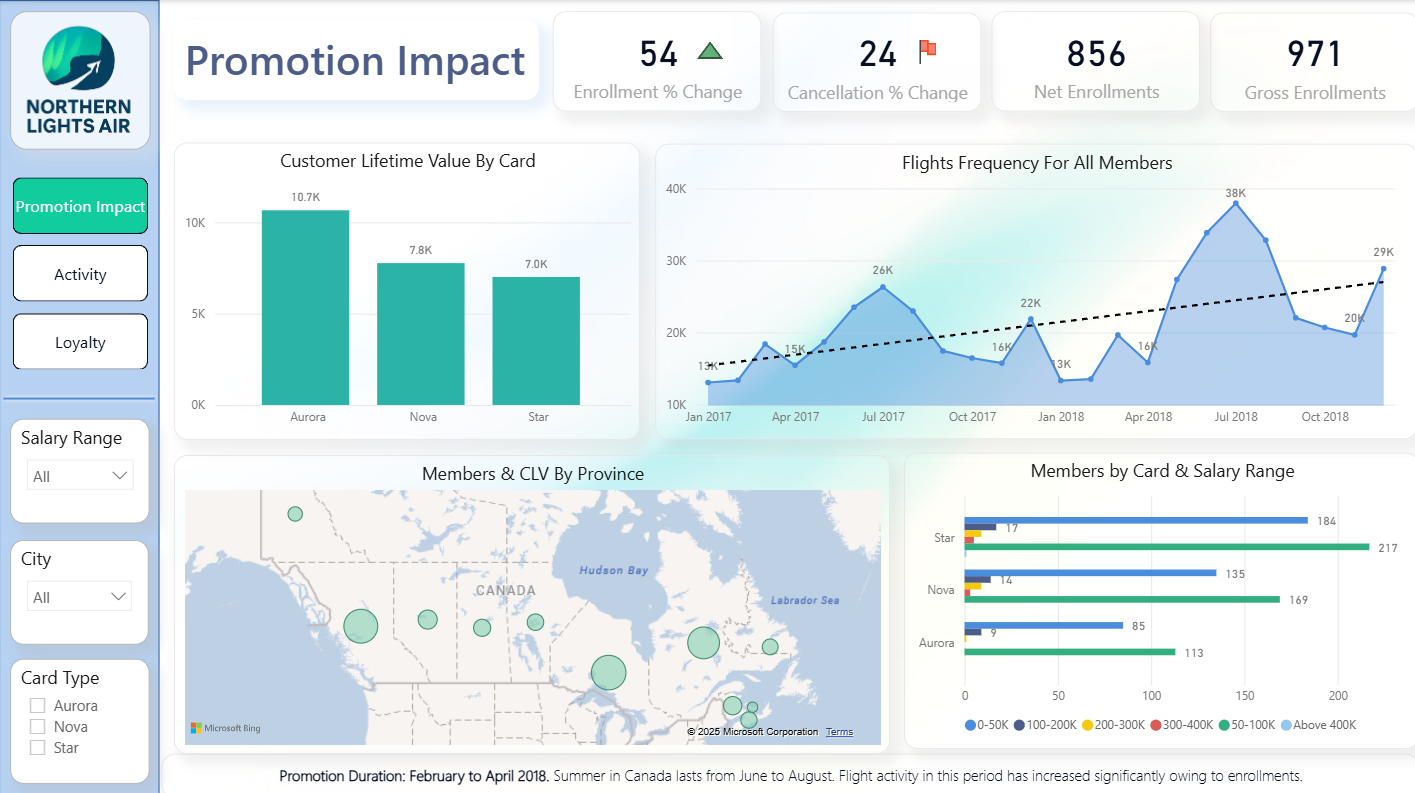

The dashboard page shown, as its layout file describes it:
{"tool":"powerbi","page":{"name":"Promotion Impact","canvas":[1280,720],"ordinal":0},"visuals":[{"type":"image","box":[145.5,1.2,1134.8,719],"z":0},{"type":"textbox","box":[146,679.6,1134,40.3],"z":1000},{"type":"tableEx","fields":{"Values":["Customer Loyalty History.Enrollment % Change"]},"box":[545.4,2.8,129.4,62.6],"z":2000},{"type":"tableEx","fields":{"Values":["Customer Loyalty History.Cancellation % Change"]},"box":[815.6,5.9,120.5,61.7],"z":3000},{"type":"card","fields":{"Values":["Customer Loyalty History.Enrollment % Change"]},"box":[498.9,9.8,188.3,90.5],"z":4000},{"type":"card","fields":{"Values":["Customer Loyalty History.Cancellation % Change"]},"box":[697.2,11,188.3,89.3],"z":5000},{"type":"card","fields":{"Values":["Customer Loyalty History.Gross Enrollments"]},"box":[1092,11,188.3,89.3],"z":6000},{"type":"card","fields":{"Values":["Customer Loyalty History.Net Enrollments"]},"box":[895.1,9.8,188.3,90.5],"z":7000},{"type":"clusteredBarChart","title":"Members by Card & Salary Range","fields":{"Y":["CountNonNull(Customer Loyalty History.Loyalty Number)"],"Category":["Customer Loyalty History.Loyalty Card"],"Series":["Customer Loyalty History.Salary Range"]},"box":[815.6,407.8,464.4,266.8],"z":8000},{"type":"map","title":"Members & CLV By Province","fields":{"Category":["Customer Loyalty History.Province","Customer Loyalty History.City"],"Size":["CountNonNull(Customer Loyalty History.Loyalty Number)"]},"box":[157.3,410.3,645.7,269.3],"z":9000},{"type":"lineChart","title":"Flights Frequency For All Members","fields":{"Y":["Sum(Customer Flight Activity.Total Flights)"],"Category":["Calendar.Start of Month.Variation.Date Hierarchy.Year","Calendar.Start of Month.Variation.Date Hierarchy.Month","Calendar.Start of Month.Variation.Date Hierarchy.Day"]},"box":[591.9,129.8,687.2,266.6],"z":10000},{"type":"shape","box":[0,0,144.8,719.5],"z":11000},{"type":"slicer","title":"City","fields":{"Values":["Customer Loyalty History.City"]},"box":[9.8,486.7,124.7,94.2],"z":12000},{"type":"slicer","title":"Card Type","fields":{"Values":["Customer Loyalty History.Loyalty Card"]},"box":[9.8,594.3,126,112.5],"z":13000},{"type":"shape","box":[0,347.3,144.3,24.5],"z":14000},{"type":"image","box":[9.8,9.8,126.5,125.1],"z":15000},{"type":"textbox","box":[157.7,18.3,328.9,72.1],"z":16000},{"type":"FlowVisual_C29F1DCC_81F5_4973_94AD_0517D44CC06A","box":[173,500,150,220],"z":17000},{"type":"clusteredColumnChart","title":"Customer Lifetime Value By Card","fields":{"Category":["Customer Loyalty History.Loyalty Card"],"Y":["Avg(Customer Loyalty History.CLV)"]},"box":[157.3,128.4,420.4,268.1],"z":18000},{"type":"pageNavigator","box":[12.2,160.4,122.3,173.6],"z":19000},{"type":"slicer","title":"Salary Range","fields":{"Values":["Calendar.Date.Variation.Date Hierarchy.Year"]},"box":[9.8,377.9,126,94.2],"z":20000}]}

Visuals, with their boxes on the page's 1280x720 design canvas (x1, y1, x2, y2). These are canvas units, not pixel positions in the 1415x793 screenshot, which may show the page scaled, cropped or inside an application window:
image: bbox=[146, 1, 1280, 720]
textbox: bbox=[146, 680, 1280, 720]
tableEx - Customer Loyalty History.Enrollment % Change: bbox=[545, 3, 675, 65]
tableEx - Customer Loyalty History.Cancellation % Change: bbox=[816, 6, 936, 68]
card - Customer Loyalty History.Enrollment % Change: bbox=[499, 10, 687, 100]
card - Customer Loyalty History.Cancellation % Change: bbox=[697, 11, 886, 100]
card - Customer Loyalty History.Gross Enrollments: bbox=[1092, 11, 1280, 100]
card - Customer Loyalty History.Net Enrollments: bbox=[895, 10, 1083, 100]
"Members by Card & Salary Range" clusteredBarChart: bbox=[816, 408, 1280, 675]
"Members & CLV By Province" map: bbox=[157, 410, 803, 680]
"Flights Frequency For All Members" lineChart: bbox=[592, 130, 1279, 396]
shape: bbox=[0, 0, 145, 720]
"City" slicer: bbox=[10, 487, 134, 581]
"Card Type" slicer: bbox=[10, 594, 136, 707]
shape: bbox=[0, 347, 144, 372]
image: bbox=[10, 10, 136, 135]
textbox: bbox=[158, 18, 487, 90]
FlowVisual_C29F1DCC_81F5_4973_94AD_0517D44CC06A: bbox=[173, 500, 323, 720]
"Customer Lifetime Value By Card" clusteredColumnChart: bbox=[157, 128, 578, 396]
pageNavigator: bbox=[12, 160, 134, 334]
"Salary Range" slicer: bbox=[10, 378, 136, 472]
